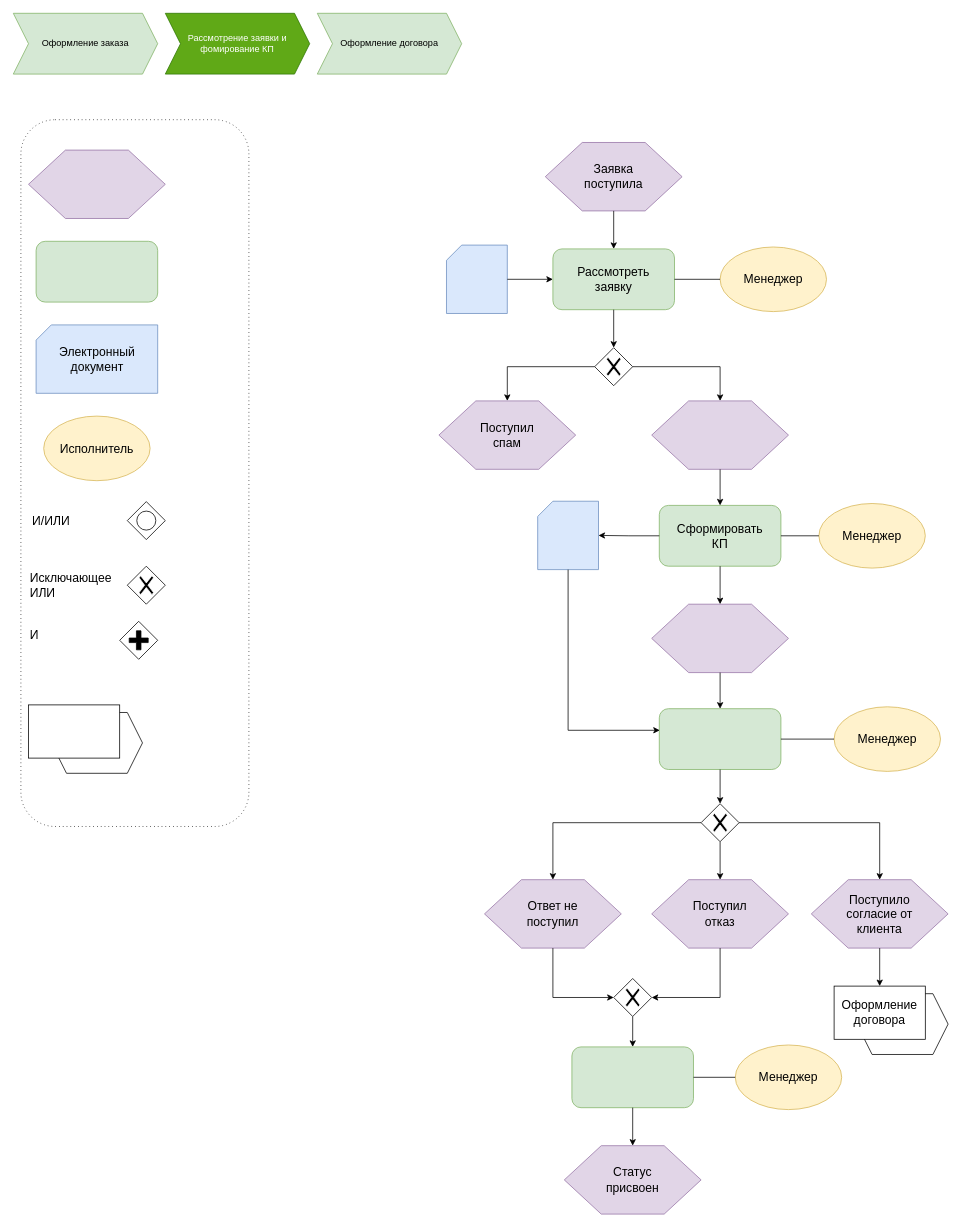
Some shapes in this 961 by 1227 pixel diagram are drawn without their labels. Here are the shapes that lost their labels. From the top down, the box of each, then its label:
(28, 149, 165, 218): Событие
(35, 241, 158, 302): Функция
(446, 244, 507, 314): Заявка
(651, 400, 788, 469): Поступила верная заявка
(537, 500, 598, 570): КП
(651, 603, 788, 673): Кп сформировано
(28, 704, 120, 758): Интерфейс процесса
(659, 708, 781, 770): Направить КП
(571, 1046, 694, 1108): Присвоить стаус
